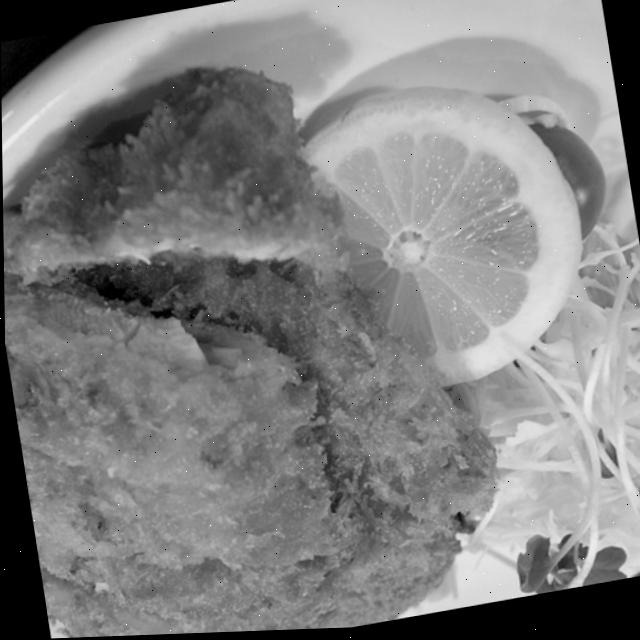炸货点心: (0, 10, 521, 640)
